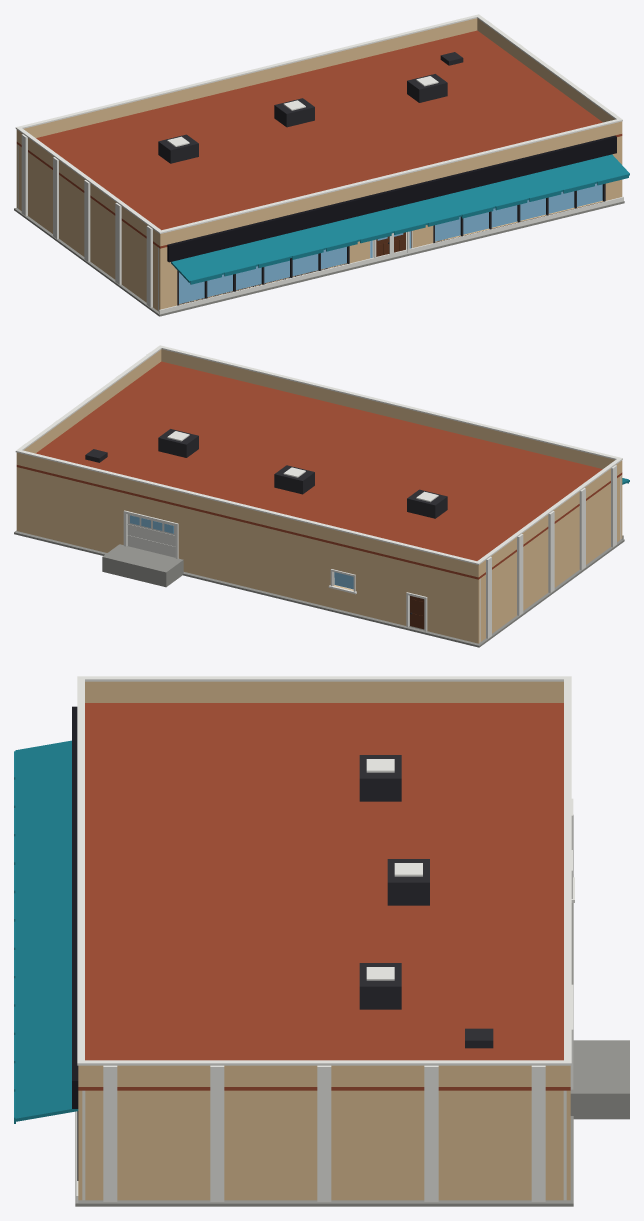
The model's file is Shop.glb.
3 renders of one model, top to bottom at view 1: azimuth 30°, elevation 25°; view 2: azimuth 150°, elevation 25°; view 3: azimuth 270°, elevation 25°, orthographic. The views are drawn at different scales.
Visible parts, largest first — view 1: Shop_Roof, Shop_WallsOut, Shop_Awning, Shop_Trim, Shop_Sign, Shop_Glass, Shop_Metal, Shop_Foundation; view 2: Shop_Roof, Shop_WallsOut, Shop_Trim, Shop_Foundation, Shop_Metal, Shop_GarageDoor1, Shop_Door3; view 3: Shop_Roof, Shop_WallsOut, Shop_Trim, Shop_Awning, Shop_Foundation, Shop_Metal, Shop_Sign, Shop_WallsIn.
Part boxes in pixels (bbox=[...]): Shop_Roof: bbox=[16, 30, 622, 248]; Shop_WallsOut: bbox=[16, 18, 622, 310]; Shop_Awning: bbox=[171, 154, 629, 284]; Shop_Trim: bbox=[15, 14, 623, 314]; Shop_Sign: bbox=[167, 135, 616, 262]; Shop_Glass: bbox=[179, 183, 602, 303]; Shop_Metal: bbox=[158, 52, 605, 305]; Shop_Foundation: bbox=[14, 201, 624, 316]; Shop_Roof: bbox=[16, 361, 622, 579]; Shop_WallsOut: bbox=[16, 349, 622, 643]; Shop_Trim: bbox=[15, 345, 623, 638]; Shop_Foundation: bbox=[14, 530, 624, 647]; Shop_Metal: bbox=[85, 429, 447, 518]; Shop_GarageDoor1: bbox=[127, 514, 175, 557]; Shop_Door3: bbox=[410, 596, 424, 629]; Shop_Roof: bbox=[78, 703, 570, 1090]; Shop_WallsOut: bbox=[78, 681, 570, 1200]; Shop_Trim: bbox=[76, 676, 574, 1202]; Shop_Awning: bbox=[14, 740, 78, 1123]; Shop_Foundation: bbox=[75, 815, 629, 1206]; Shop_Metal: bbox=[77, 755, 493, 1180]; Shop_Sign: bbox=[72, 706, 78, 1108]; Shop_WallsIn: bbox=[82, 1090, 566, 1200].
Size of the model in its own units: 131 by 22.5 by 87.6.
